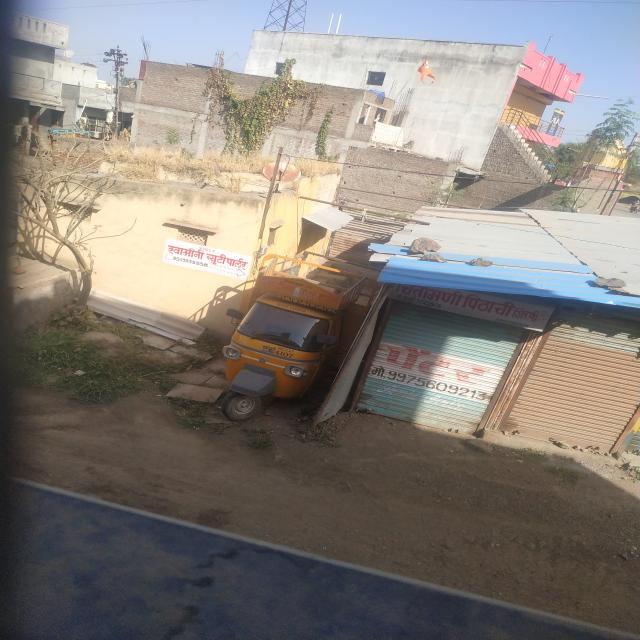tempo: (179, 261, 356, 432)
